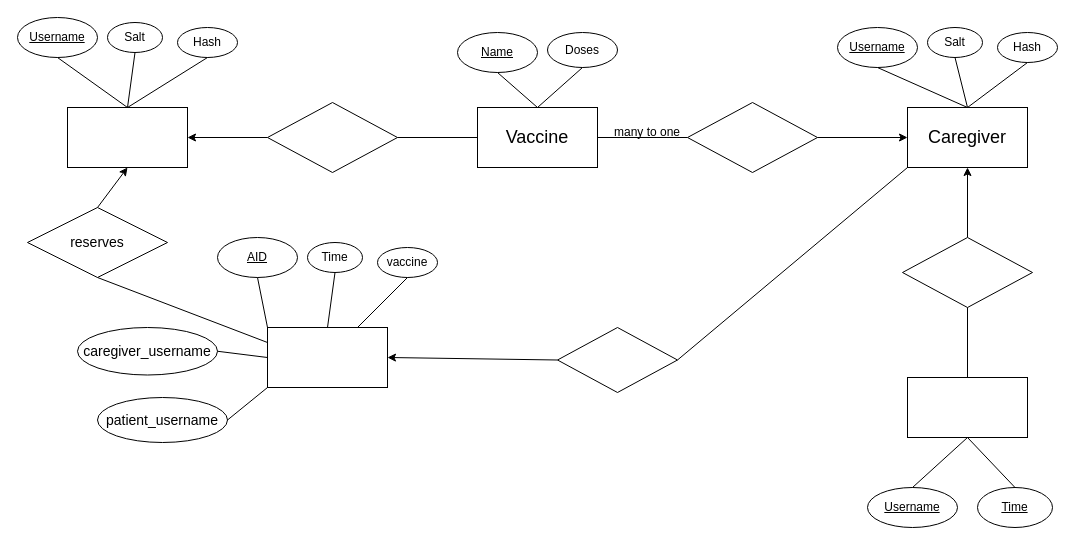
This 1075x545 diagram has some shape labels left out. Here are the shapes that lost their labels. From the top down, the centre of each, then its label:
At (x=127, y=137): "Patient".
At (x=332, y=137): "want to receive".
At (x=752, y=137): "administers".
At (x=967, y=272): "has".
At (x=327, y=357): "Appointments".
At (x=617, y=359): "assigns".
At (x=967, y=407): "Availabilities".
